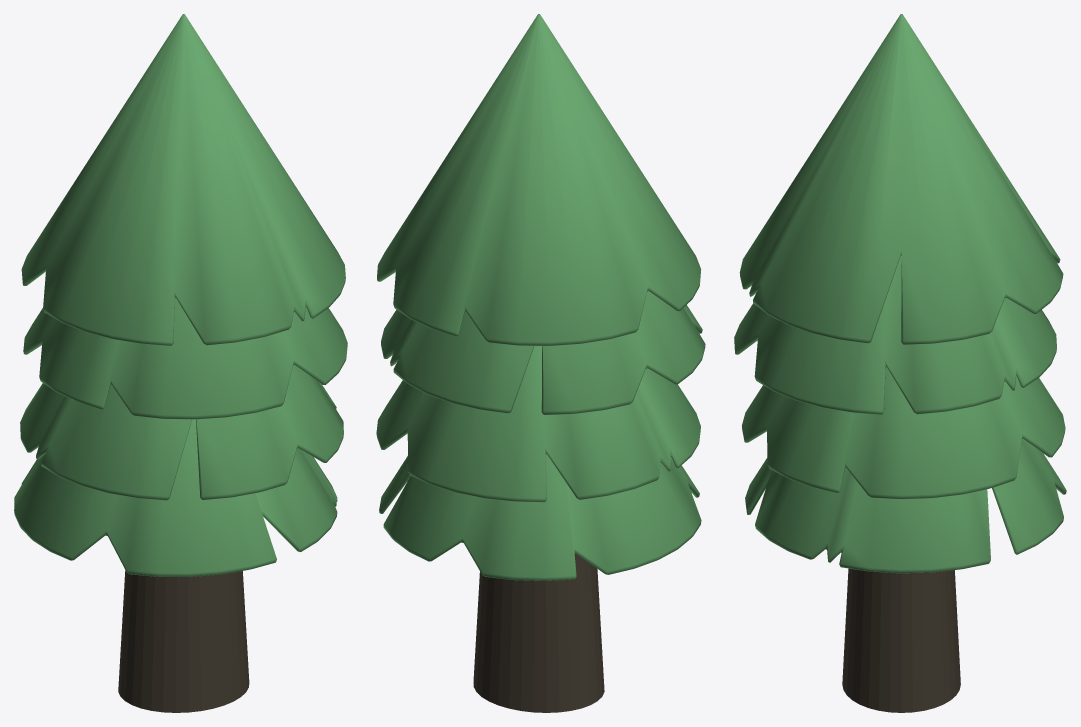
File: Pino.fbx
The picture shows the model from 3 angles, left to right: view 1: azimuth 30°, elevation 25°; view 2: azimuth 150°, elevation 25°; view 3: azimuth 270°, elevation 25°; orthographic projection.
Parts seen in each view (by area): view 1: Pino; view 2: Pino; view 3: Pino.
Boxes of the visible parts, box(x1,y1,x2,y2) form: Pino: box(14, 14, 347, 712); Pino: box(376, 14, 705, 712); Pino: box(734, 14, 1066, 712).
Size of the model in its own units: 285 by 640 by 288.
